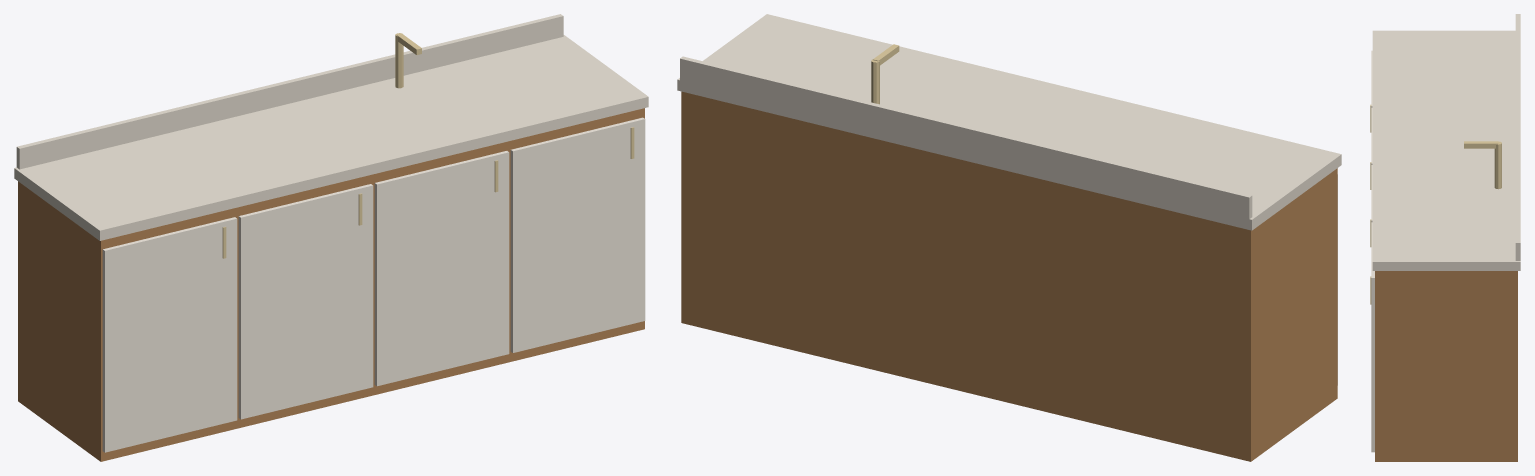
File: bancada_pia_220.obj
3 renders of one model, left to right at view 1: azimuth 30°, elevation 25°; view 2: azimuth 150°, elevation 25°; view 3: azimuth 270°, elevation 25°, orthographic. The views are drawn at different scales.
Visible parts, largest first — view 1: bancada_pia_220; view 2: bancada_pia_220; view 3: bancada_pia_220.
Boxes of the visible parts, bbox=[...] form: bancada_pia_220: bbox=[14, 14, 648, 461]; bancada_pia_220: bbox=[677, 14, 1341, 461]; bancada_pia_220: bbox=[1370, 14, 1520, 461].
Size of the model in its own units: 2.22 by 1.1 by 0.609.
